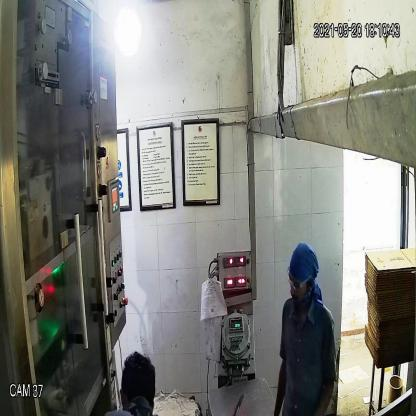goggles: (287, 266, 313, 289)
